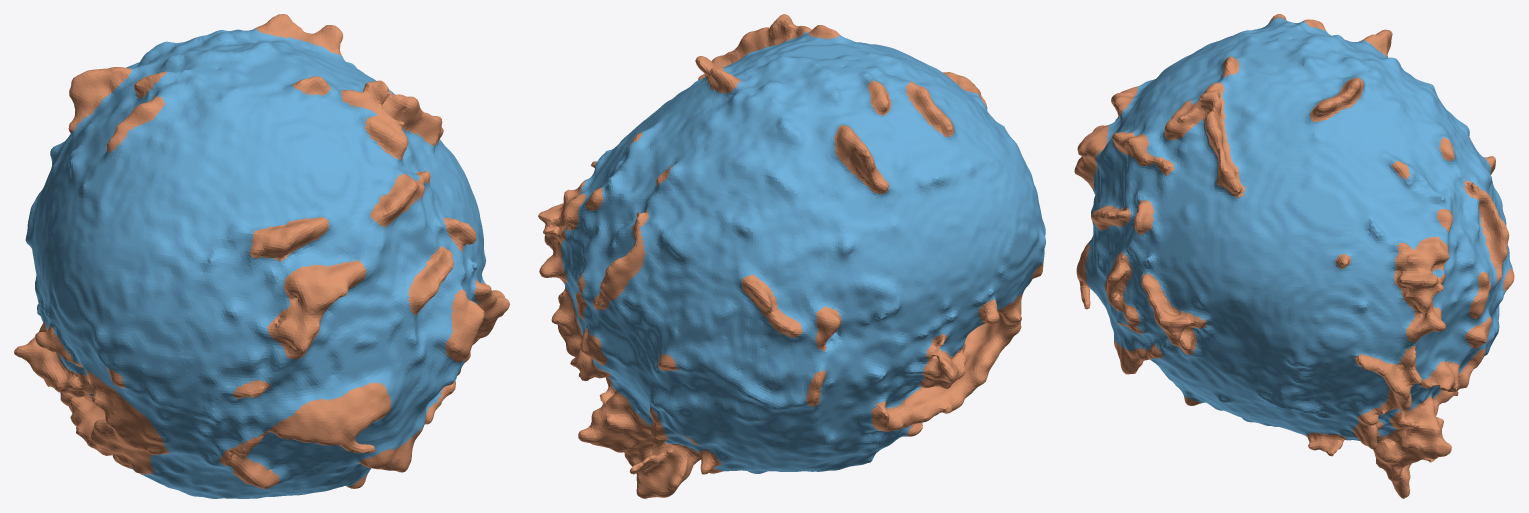
The picture shows the model from 3 angles, left to right: view 1: azimuth 30°, elevation 25°; view 2: azimuth 150°, elevation 25°; view 3: azimuth 270°, elevation 25°; orthographic projection. The views are drawn at different scales.
Size of the model in its own units: 126 by 131 by 130.
